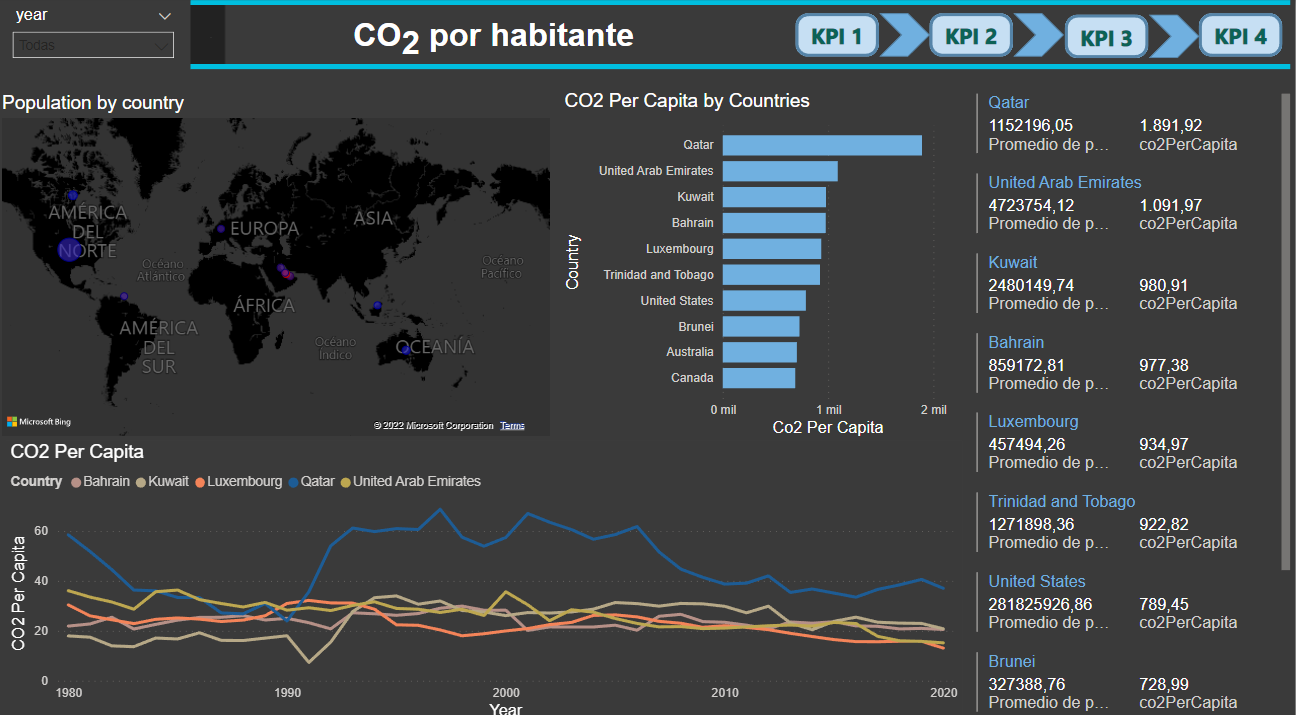

What the dashboard file says about the page in this screenshot:
{"tool":"powerbi","page":{"name":"OBJ3-1","canvas":[1280,720],"ordinal":3},"visuals":[{"type":"textbox","box":[192.3,16.7,594.4,61.5],"z":0},{"type":"image","box":[185.2,0,1094.8,78.1],"z":1000},{"type":"clusteredBarChart","title":"CO2 Per Capita by Countries","fields":{"Category":["country.country"],"Y":["Sum(population_country_electricity.co2PerCapita)"]},"box":[554.6,93.7,389.5,347.1],"z":2000},{"type":"map","title":"Population by country","fields":{"Category":["country.country"],"Size":["Sum(population_country_electricity.population)"]},"box":[0,94.9,550.2,345.9],"z":3000},{"type":"lineChart","title":"CO2 Per Capita","fields":{"Category":["population_country_electricity.year"],"Series":["country.country"],"Y":["Sum(population_country_electricity.co2PerCapita)"]},"box":[8.9,439.7,944.1,280.1],"z":4000},{"type":"multiRowCard","fields":{"Values":["country.country","Avg(population_country_electricity.population)","Sum(population_country_electricity.co2PerCapita)"]},"box":[960.8,92.6,319.2,619.4],"z":5000},{"type":"shape","title":"1","box":[787.1,18.5,82.5,43.3],"z":6000},{"type":"shape","box":[869.6,18.5,50.3,43.3],"z":7000},{"type":"shape","box":[1002.4,18.5,50.3,43.3],"z":8000},{"type":"shape","box":[1135.2,19.9,50.3,43.3],"z":9000},{"type":"shape","title":"1","box":[919.9,18.5,82.5,43.3],"z":10000},{"type":"shape","title":"1","box":[1052.7,19.2,82.5,43.3],"z":11000},{"type":"shape","title":"1","box":[1185.5,18.5,82.5,43.3],"z":12000},{"type":"actionButton","box":[787.1,19.2,82.5,44.7],"z":13000},{"type":"actionButton","box":[919.9,17.8,82.5,44.7],"z":14000},{"type":"actionButton","box":[1052.7,17.8,82.5,44.7],"z":15000},{"type":"actionButton","box":[1185.6,17.8,82.5,44.7],"z":16000},{"type":"slicer","title":"Year","fields":{"Values":["population_country_electricity.year"]},"box":[6.1,6.1,179.1,82.5],"z":17000}]}

Visuals, with their boxes on the page's 1280x720 design canvas (x1, y1, x2, y2). These are canvas units, not pixel positions in the 1296x715 screenshot, which may show the page scaled, cropped or inside an application window:
textbox: [192, 17, 787, 78]
image: [185, 0, 1280, 78]
"CO2 Per Capita by Countries" clusteredBarChart: [555, 94, 944, 441]
"Population by country" map: [0, 95, 550, 441]
"CO2 Per Capita" lineChart: [9, 440, 953, 720]
multiRowCard - country.country x Avg(population_country_electricity.population): [961, 93, 1280, 712]
"1" shape: [787, 18, 870, 62]
shape: [870, 18, 920, 62]
shape: [1002, 18, 1053, 62]
shape: [1135, 20, 1186, 63]
"1" shape: [920, 18, 1002, 62]
"1" shape: [1053, 19, 1135, 62]
"1" shape: [1186, 18, 1268, 62]
actionButton: [787, 19, 870, 64]
actionButton: [920, 18, 1002, 62]
actionButton: [1053, 18, 1135, 62]
actionButton: [1186, 18, 1268, 62]
"Year" slicer: [6, 6, 185, 89]
